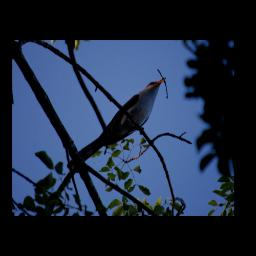Cuckoo: (78, 75, 168, 159)
